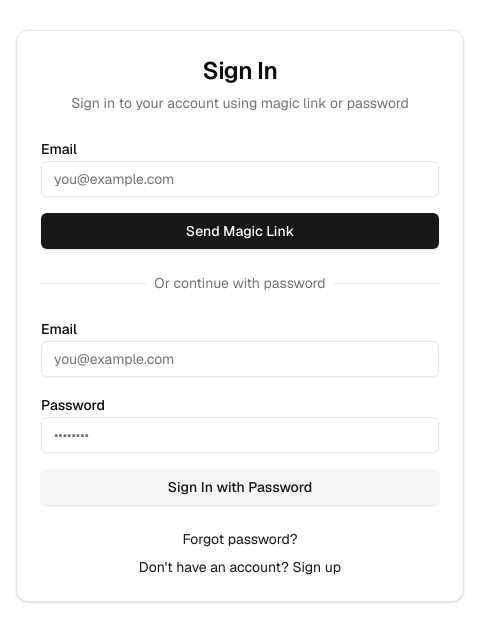
Test: LoginPage › should show error when password is empty
Type "test@example.com" into the 2nd field labelled "Email" at (240, 359), box [41,341,439,377]
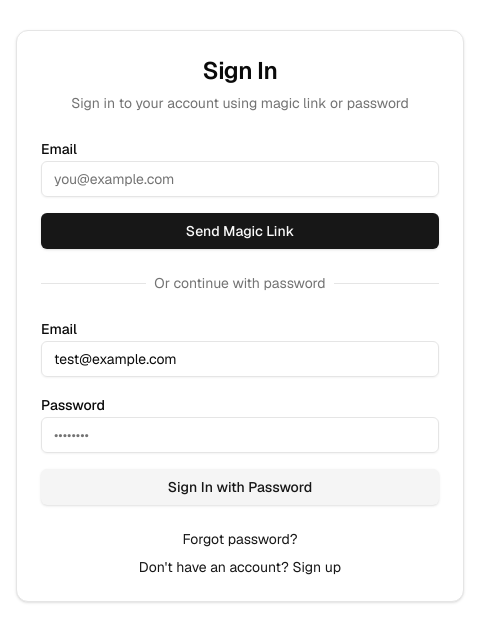
Click the button "Sign In with Password" at (240, 487), box [41,469,439,505]
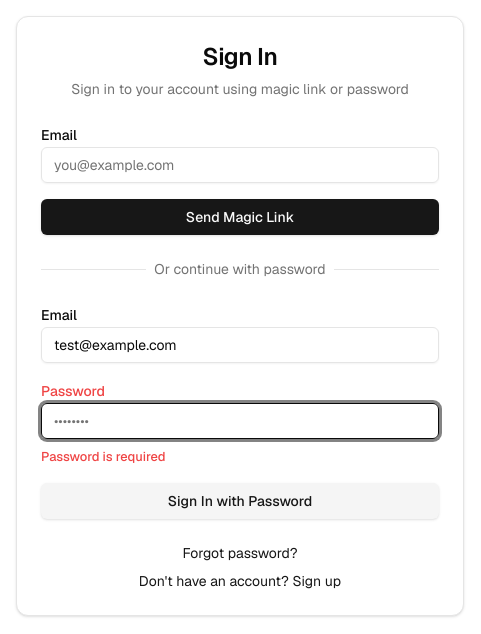
expect the text "Password is required" is shown: met, box [41,448,166,465]
